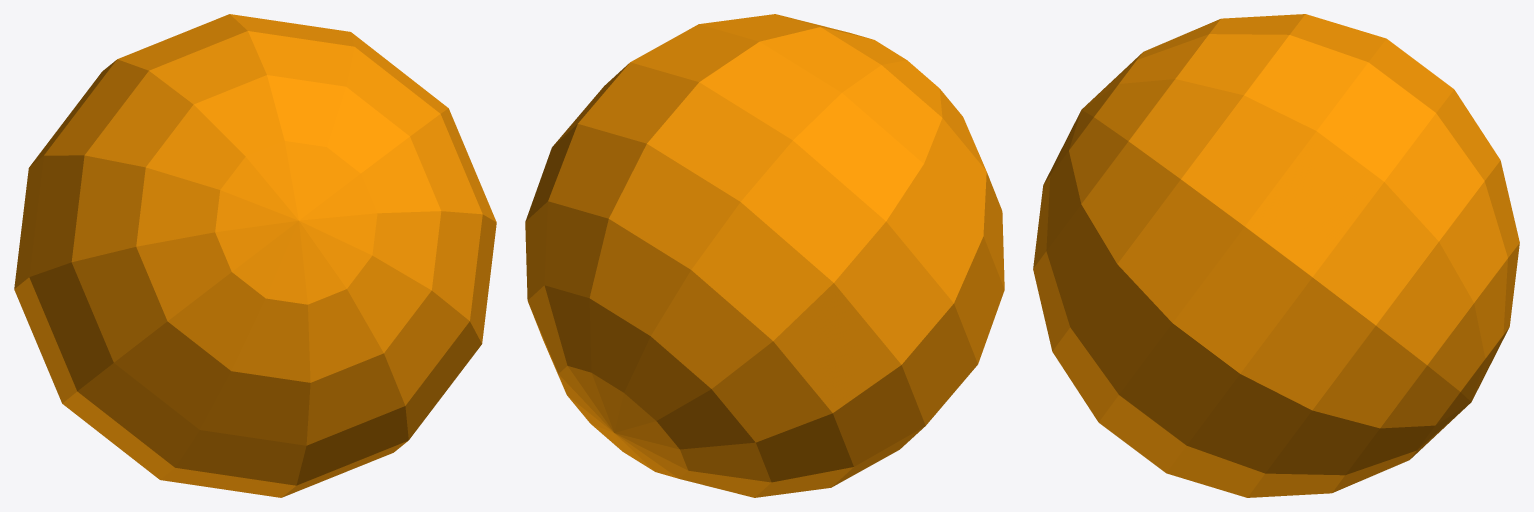
Rendered from astronaut_base_group530823911_lev4.glb.
3 views of the same model, side by side, from view 1: azimuth 30°, elevation 25°; view 2: azimuth 150°, elevation 25°; view 3: azimuth 270°, elevation 25° (orthographic).
Parts seen in each view (by area): view 1: astronaut_base_group530823911_lev4; view 2: astronaut_base_group530823911_lev4; view 3: astronaut_base_group530823911_lev4.
Part boxes in pixels (left/top/right/bottom): astronaut_base_group530823911_lev4: left=14, top=14, right=496, bottom=497; astronaut_base_group530823911_lev4: left=525, top=14, right=1004, bottom=497; astronaut_base_group530823911_lev4: left=1033, top=14, right=1519, bottom=497.
Size of the model in its own units: 0.068 by 0.0689 by 0.0689.
